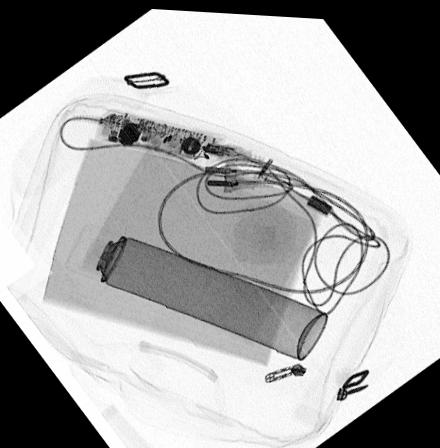Sprayer: (63, 217, 329, 356)
